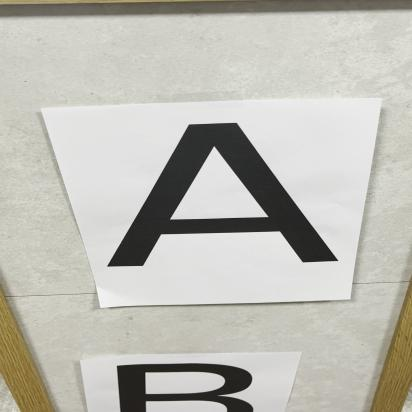seat: (91, 122, 337, 282)
